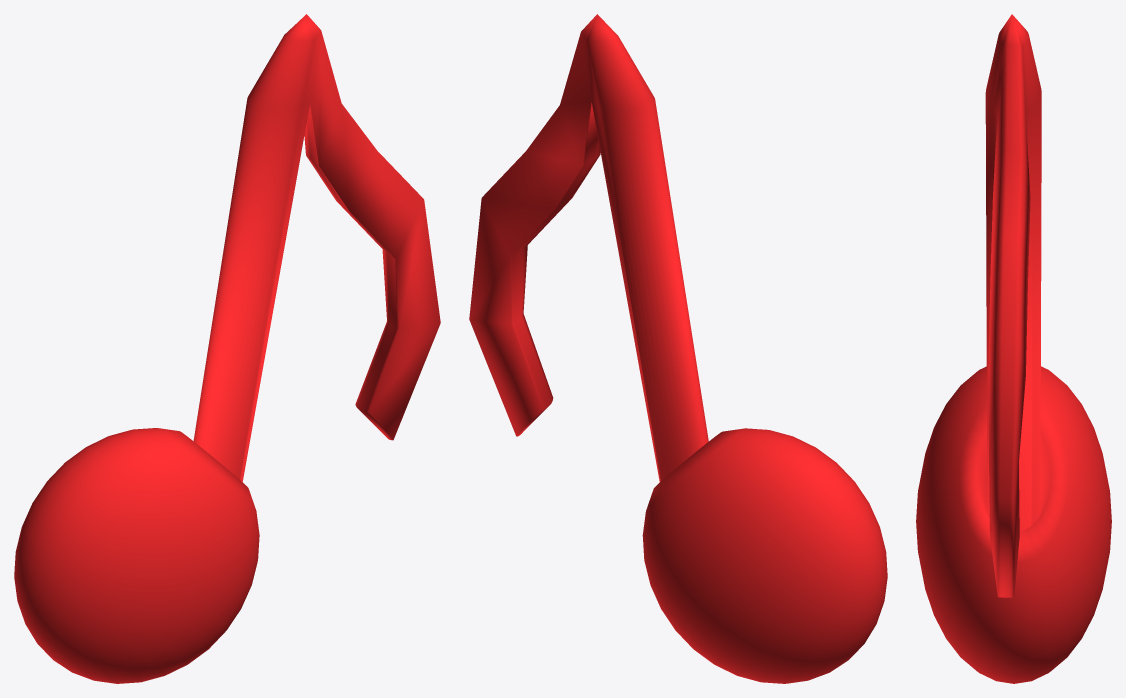
Rendered from Hand_R 1.fbx.
The picture shows the model from 3 angles, left to right: view 1: azimuth 30°, elevation 25°; view 2: azimuth 150°, elevation 25°; view 3: azimuth 270°, elevation 25°; orthographic projection. The views are drawn at different scales.
Parts seen in each view (by area): view 1: 球; view 2: 球; view 3: 球.
Boxes of the visible parts, x1=… form: 球: x1=14, y1=14, x2=440, y2=683; 球: x1=469, y1=14, x2=887, y2=683; 球: x1=916, y1=14, x2=1111, y2=683.
Bounding box in the file's own units: 19.34 × 27.87 × 6.56.
